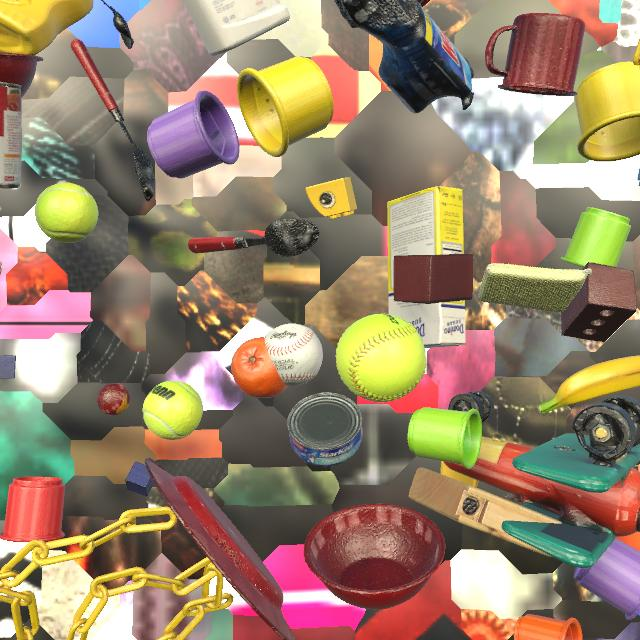ycb_003_cracker_box: (417, 0, 430, 7)
ycb_004_sugar_box: (387, 186, 466, 348)
ycb_005_tomato_soup_can: (0, 82, 22, 188)
ycb_006_mustard_bottle: (0, 0, 94, 55)
ycb_007_tuna_fish_can: (287, 392, 363, 466)
ycb_011_banana: (538, 355, 640, 414)
ycb_017_orange: (231, 337, 288, 398)
